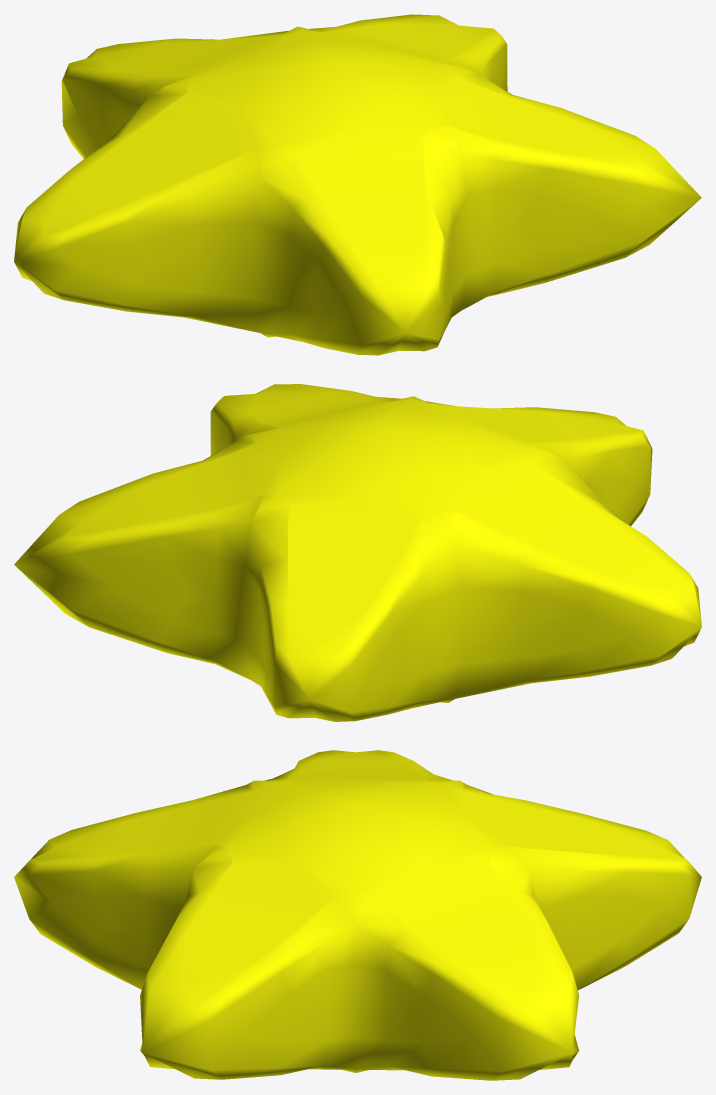
File: Star.fbx
3 views of the same model, one above another, from view 1: azimuth 30°, elevation 25°; view 2: azimuth 150°, elevation 25°; view 3: azimuth 270°, elevation 25° (orthographic).
Parts seen in each view (by area): view 1: Star; view 2: Star; view 3: Star.
Part boxes in pixels (box(x1,y1,x2,y2)): Star: box(14, 14, 701, 355); Star: box(14, 384, 701, 721); Star: box(14, 750, 701, 1080).
Bounding box in the file's own units: 0.8009 × 0.3202 × 0.8207.
